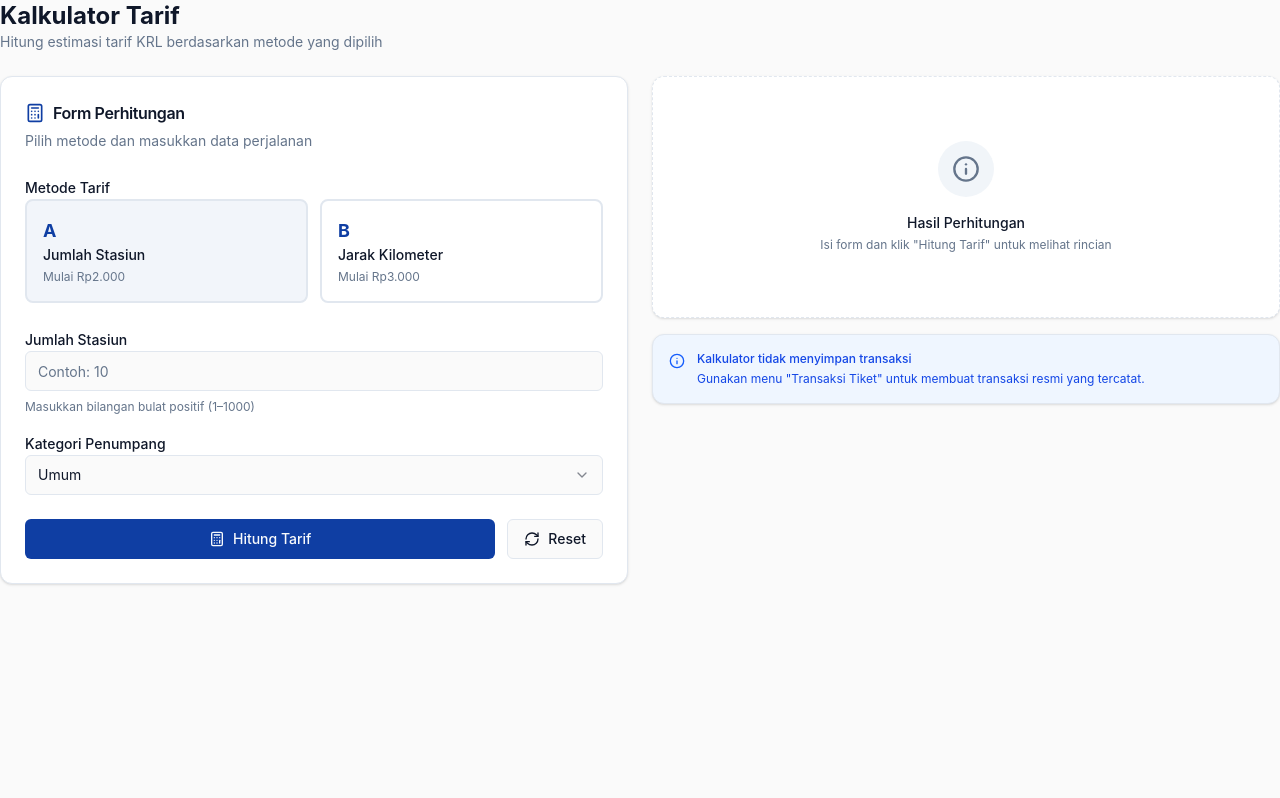
Test: UI Testing Suite › FareCalculatorPage — Dynamic Form & Calculation › menampilkan hasil perhitungan tarif yang akurat
Type "10" into the number field labelled "Jumlah Stasiun". click: point(314, 371)
box: [25,351,603,391]
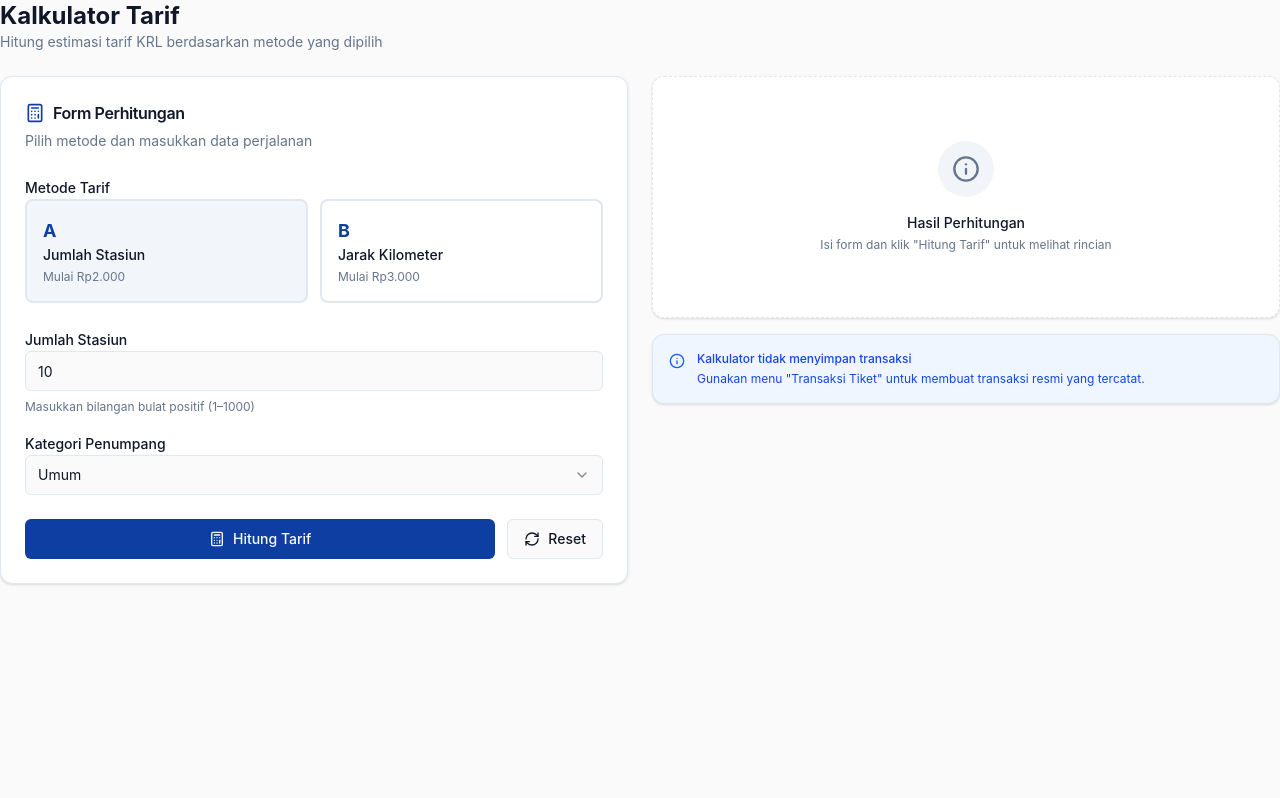
Click the button "Hitung Tarif". click: point(260, 539)
box: [25,519,495,559]
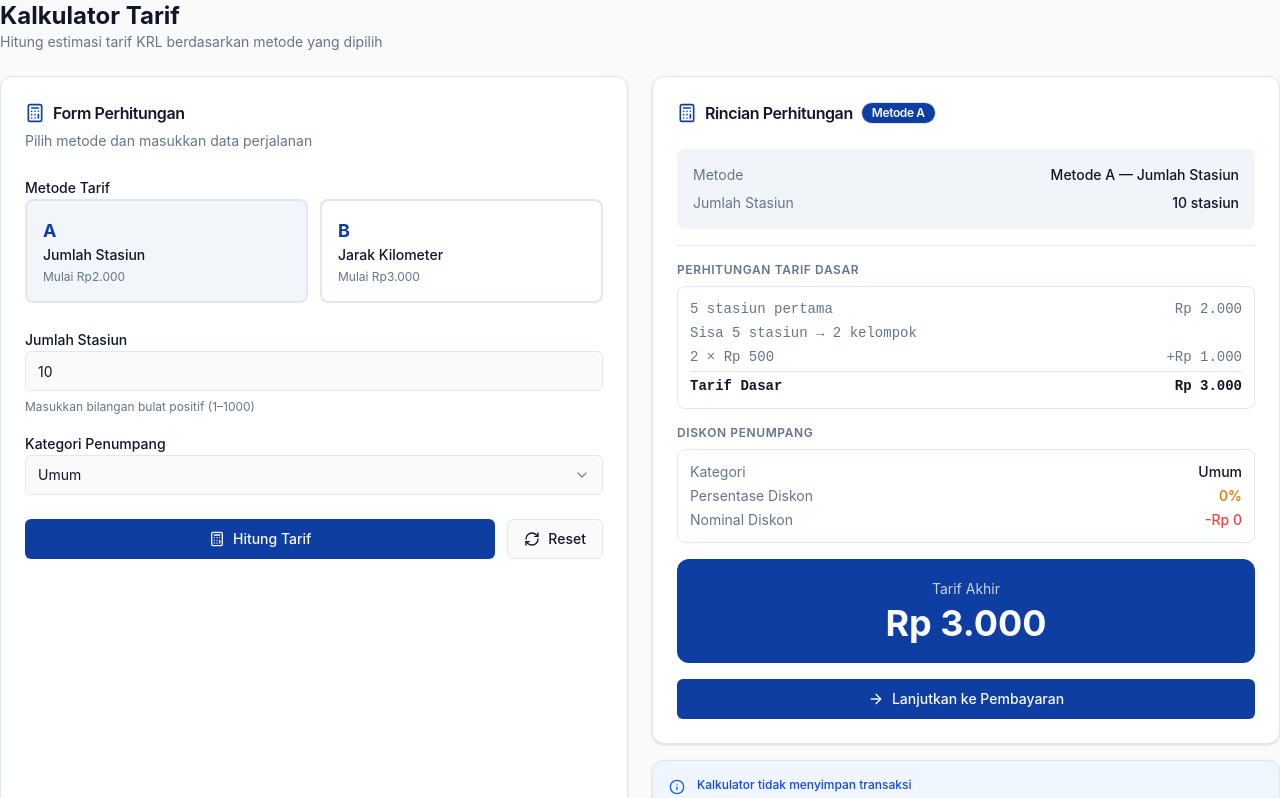
Expected: the text "Mulai Rp3.000" is shown, [338,269,420,284]
Expected: the heading "Rincian Perhitungan Metode A" is shown, [677,102,936,124]
